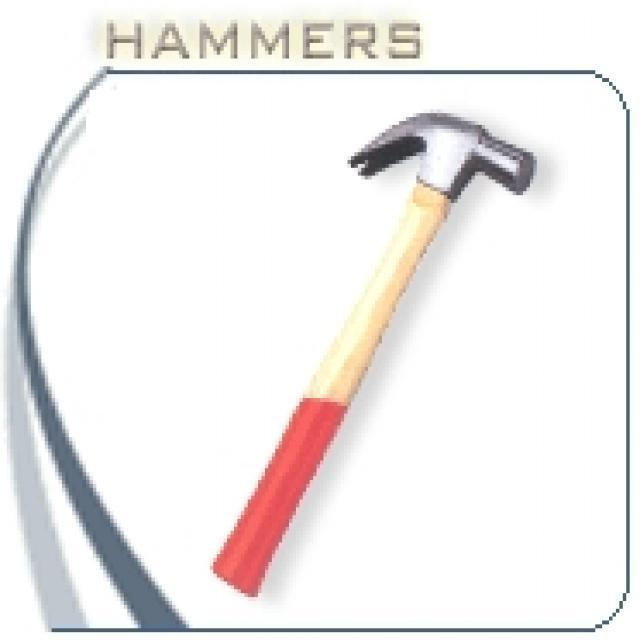hammer: (202, 104, 544, 607)
